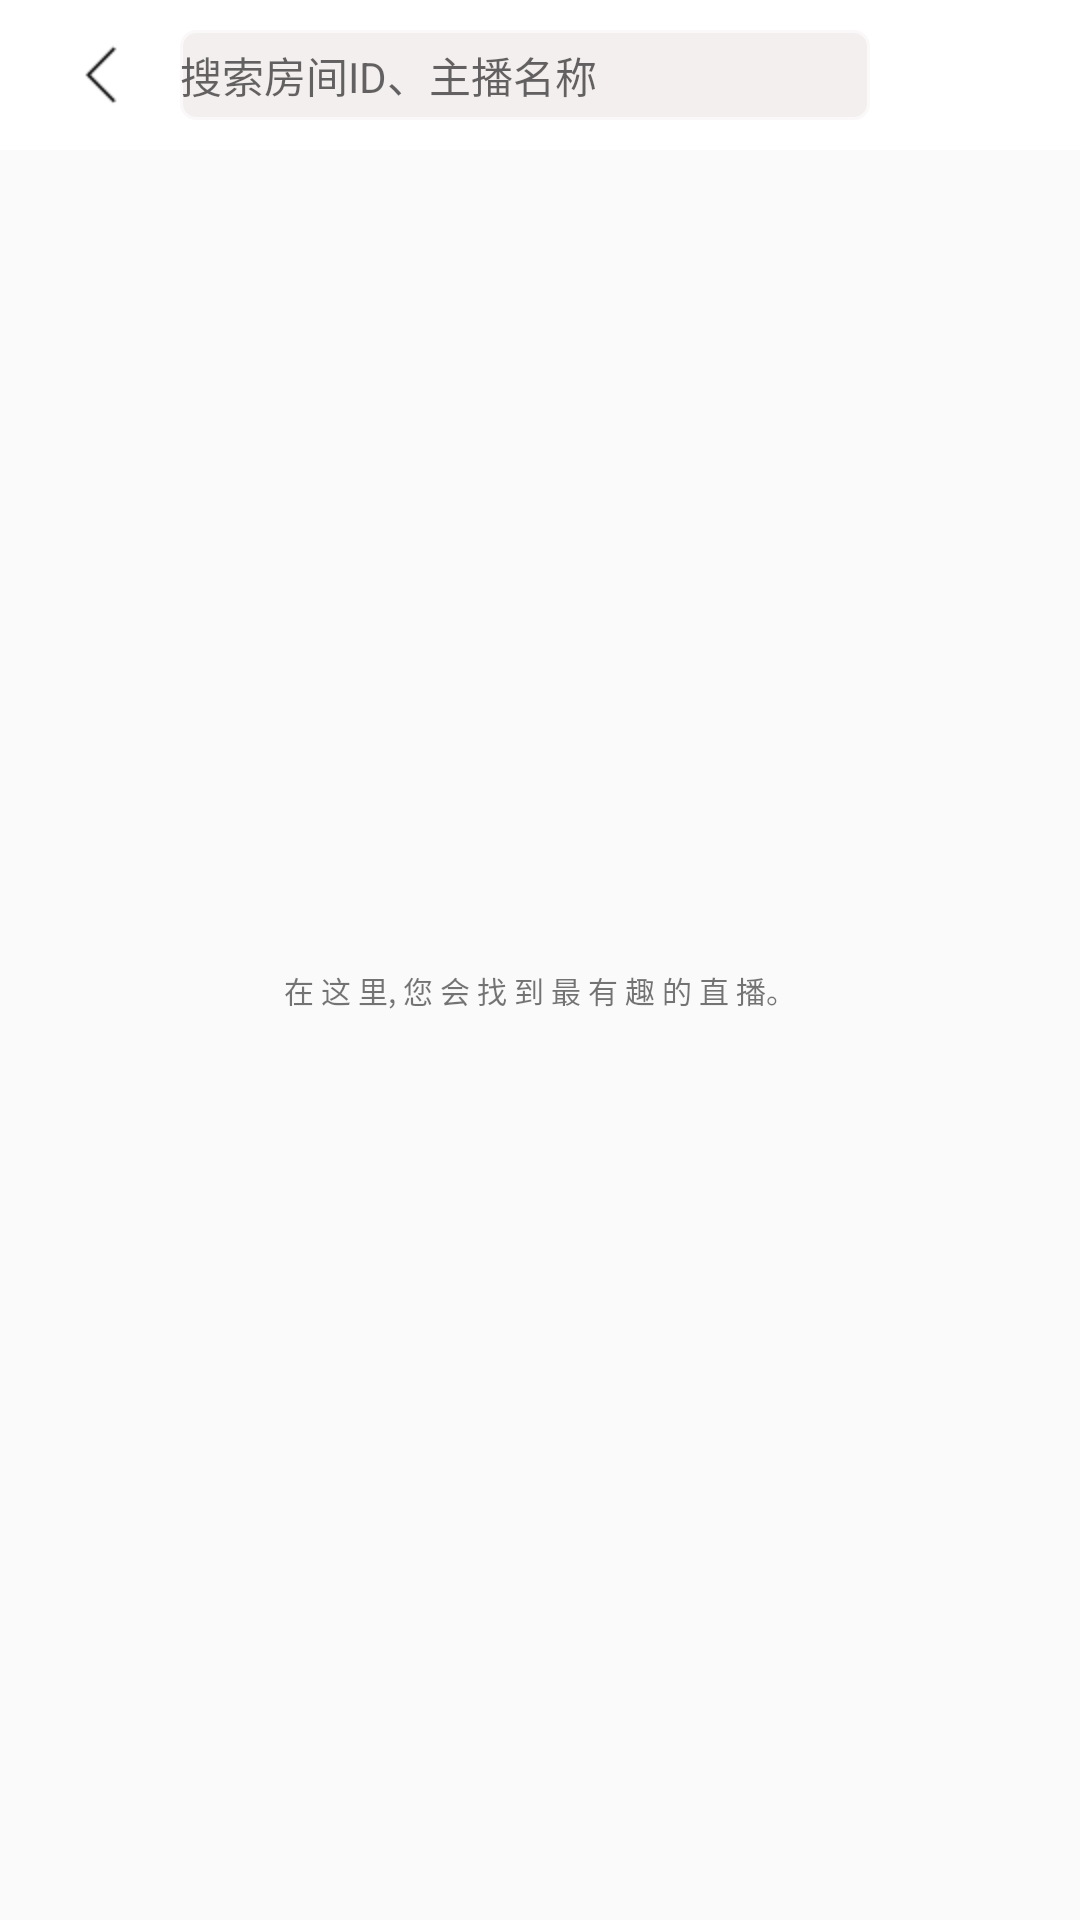

Named icons in this screenshot (1080 x 1920) and their centers, [x,y]:
back arrow: [101,74]
